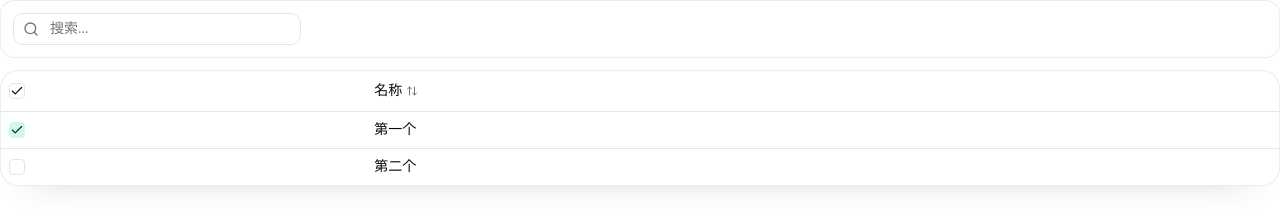
it: DataTable › 被内部搜索隐藏的已选行不会被 prune
The image size is (1280, 211).
Note: 隐藏 '第一个'（已选择）的搜索 — 选择 key 以 data prop 为准仍然有效。
Type "二" into the field with placeholder "搜索...". click: (157, 29)
box: [13, 13, 301, 45]
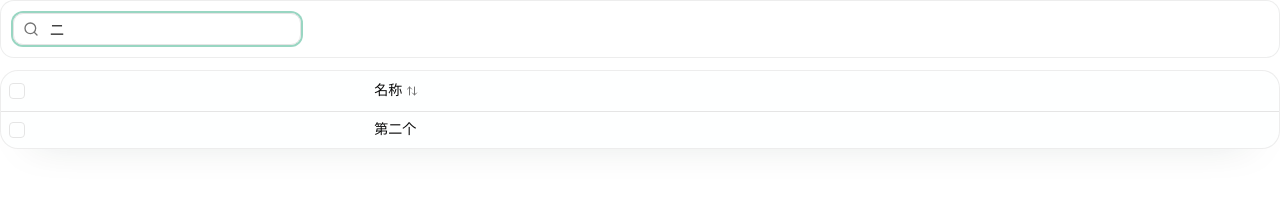
expect the text "第一个" is gone: met
